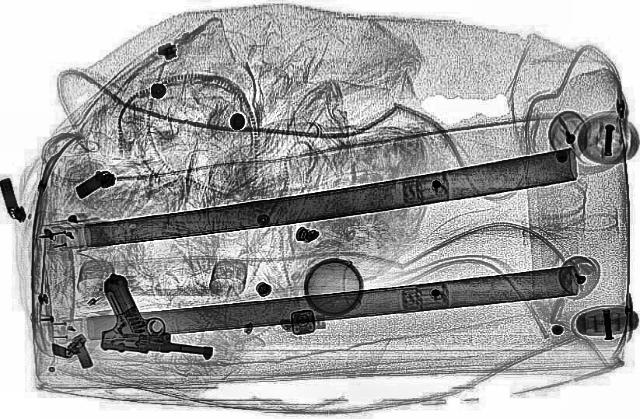Gun: (84, 271, 234, 359)
